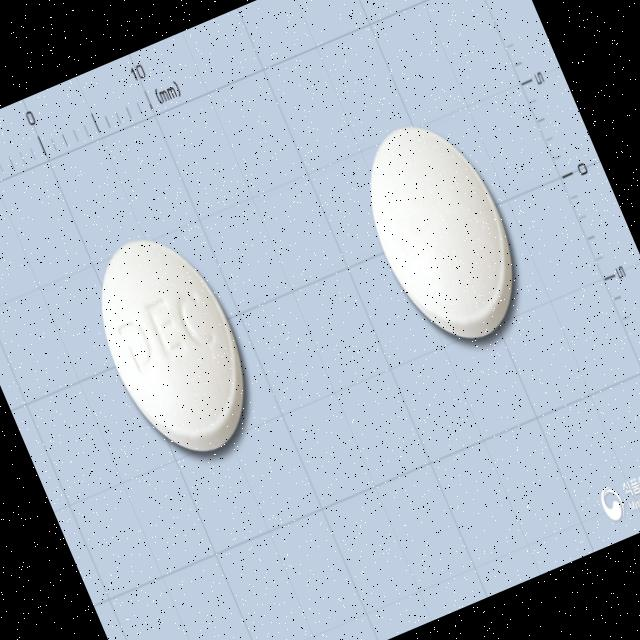Eprosin: (70, 215, 274, 473), (339, 102, 542, 360)
